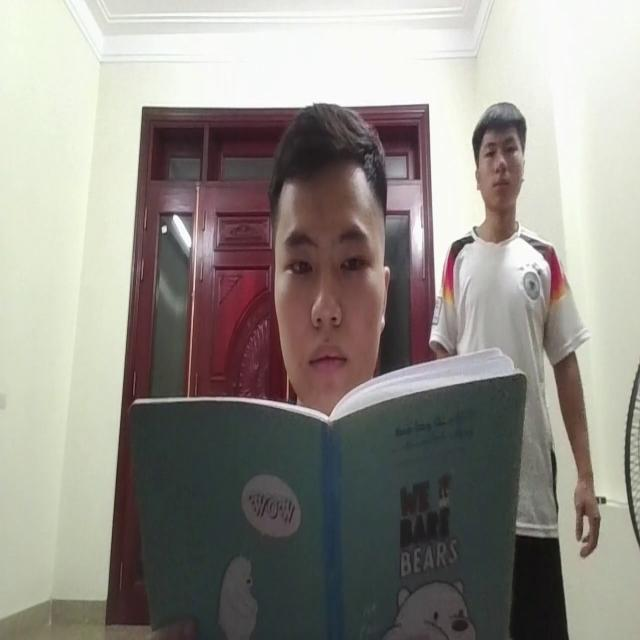book: (128, 366, 516, 640)
extra_person: (445, 111, 580, 566)
student: (274, 97, 391, 387)
